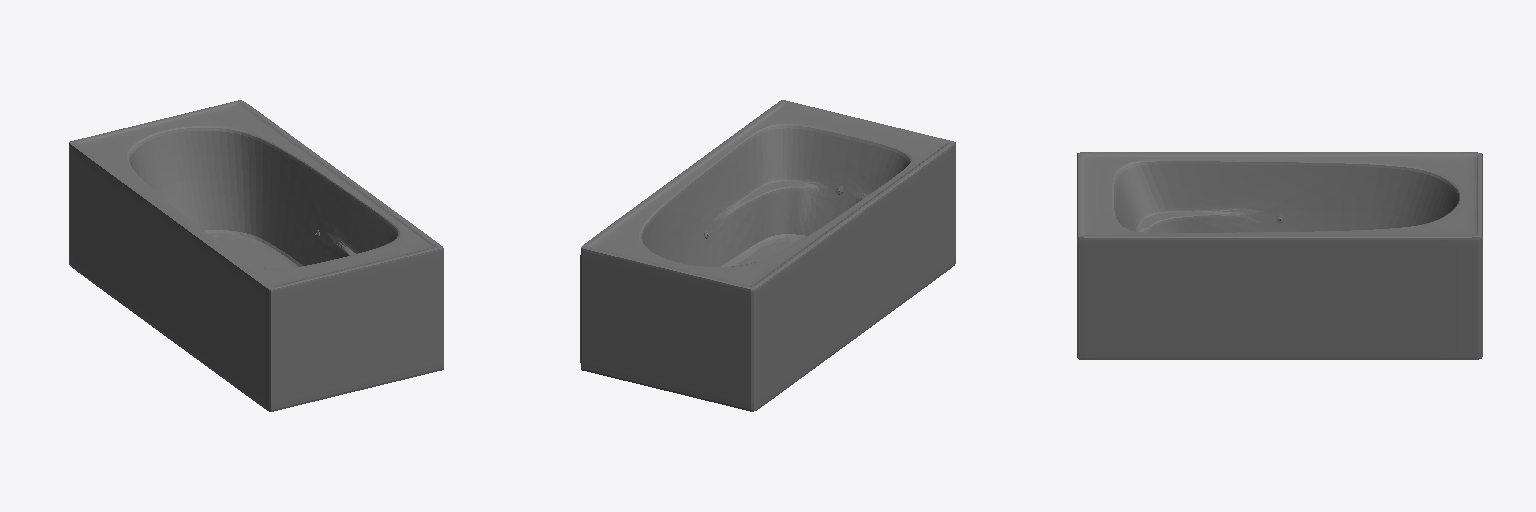
The model's file is bathtub.obj.
3 views of the same model, side by side, from view 1: azimuth 30°, elevation 25°; view 2: azimuth 150°, elevation 25°; view 3: azimuth 270°, elevation 25° (orthographic).
Visible parts, largest first — view 1: Bathtub_lambert1_0; view 2: Bathtub_lambert1_0; view 3: Bathtub_lambert1_0.
Part boxes in pixels (left/top/right/bottom): Bathtub_lambert1_0: left=69, top=100, right=443, bottom=411; Bathtub_lambert1_0: left=580, top=100, right=955, bottom=411; Bathtub_lambert1_0: left=1077, top=152, right=1482, bottom=359.
Size of the model in its own units: 6 by 4 by 12.